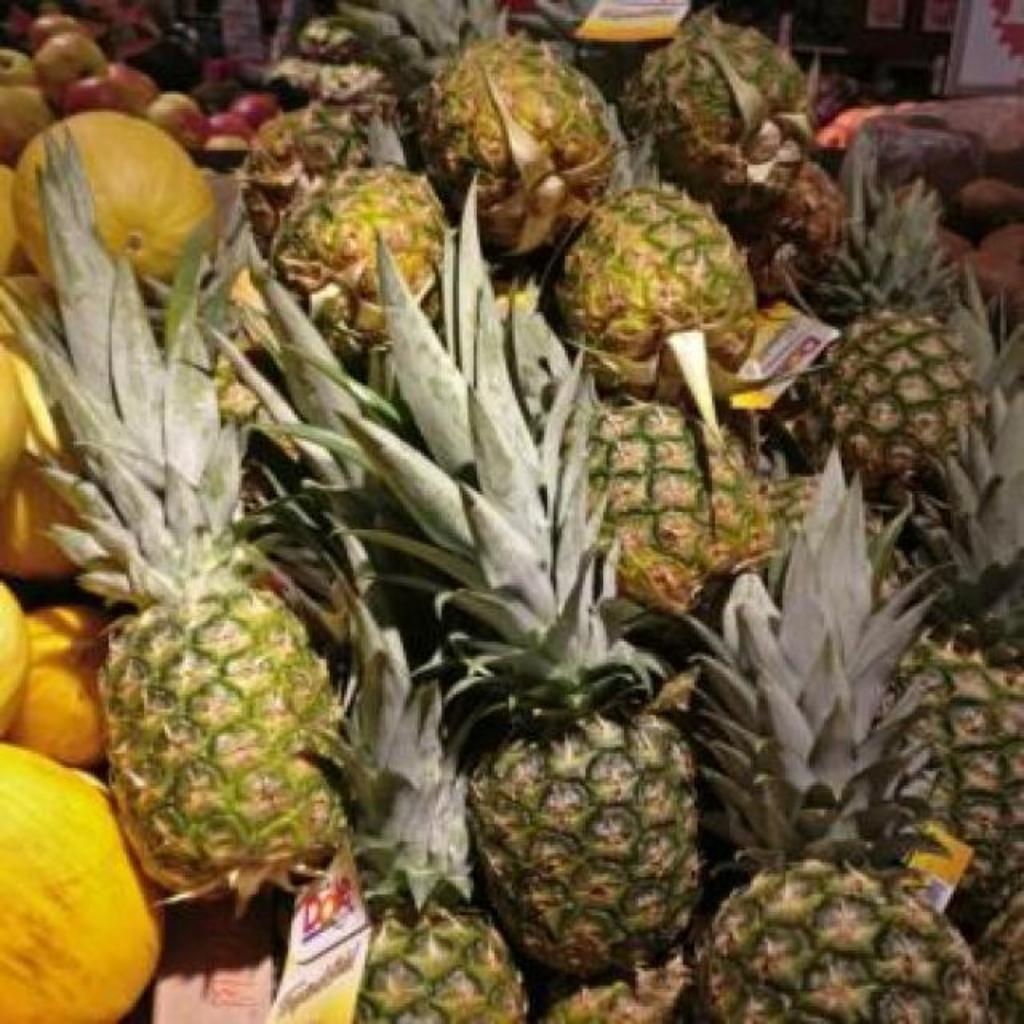pineapple: (354, 190, 698, 979), (8, 140, 342, 903), (692, 454, 988, 1024), (904, 312, 1024, 1024), (338, 588, 524, 1023), (342, 0, 614, 255), (816, 180, 976, 495), (576, 0, 812, 209), (590, 404, 772, 611), (556, 188, 756, 357), (272, 168, 446, 351), (542, 954, 690, 1023)
